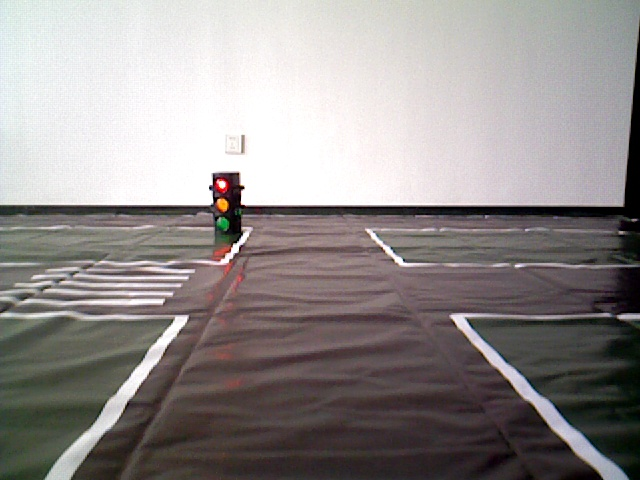red: (213, 174, 236, 235)
